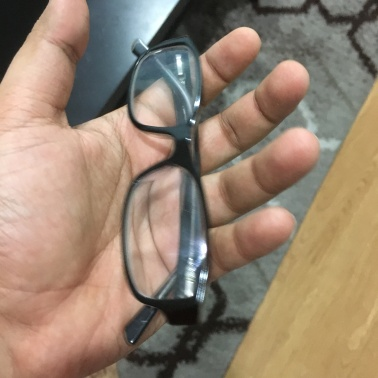glasses: (95, 31, 228, 334)
